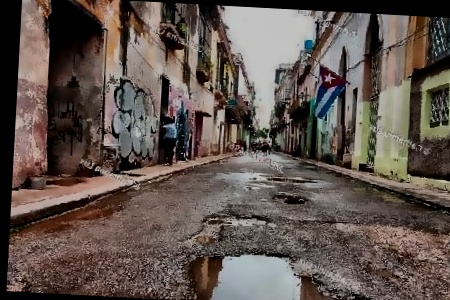pothole: (183, 245, 404, 300), (188, 208, 228, 246), (203, 209, 270, 228), (268, 174, 319, 184), (272, 192, 310, 205)
